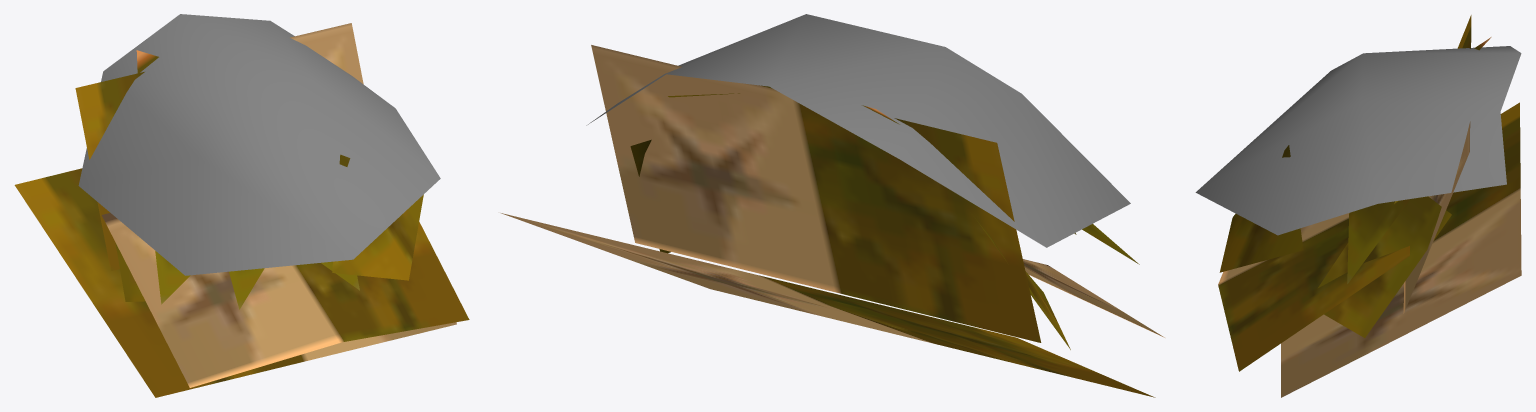
Rendered from fg_bushC_2_s.dae.
3 renders of one model, left to right at view 1: azimuth 30°, elevation 25°; view 2: azimuth 150°, elevation 25°; view 3: azimuth 270°, elevation 25°, orthographic. The views are drawn at different scales.
Visible parts, largest first — view 1: fg_bushC_2_s; view 2: fg_bushC_2_s; view 3: fg_bushC_2_s.
Part boxes in pixels (box(x1,y1,x2,y2)): fg_bushC_2_s: box(14, 14, 469, 397); fg_bushC_2_s: box(501, 14, 1164, 397); fg_bushC_2_s: box(1195, 15, 1521, 397).
Bounding box in the file's own units: 47.83 × 34.27 × 38.04.
1 material, 1 textured.
